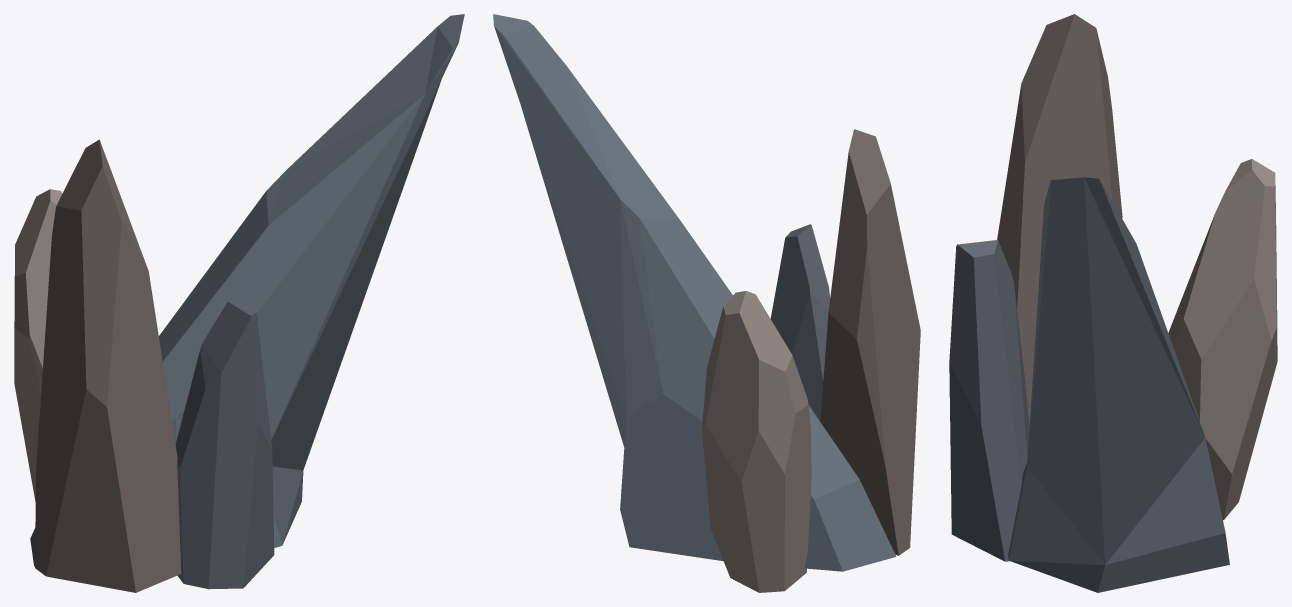
The model's file is Rocks_Sharp_l_04.fbx.
3 renders of one model, left to right at view 1: azimuth 30°, elevation 25°; view 2: azimuth 150°, elevation 25°; view 3: azimuth 270°, elevation 25°, orthographic. The views are drawn at different scales.
Visible parts, largest first — view 1: Rocks_Sharp_l_04; view 2: Rocks_Sharp_l_04; view 3: Rocks_Sharp_l_04.
Part boxes in pixels (x1=…): Rocks_Sharp_l_04: x1=14, y1=14, x2=464, y2=592; Rocks_Sharp_l_04: x1=493, y1=14, x2=920, y2=592; Rocks_Sharp_l_04: x1=949, y1=14, x2=1277, y2=592.
Bounding box in the file's own units: 387 × 403 × 235.
